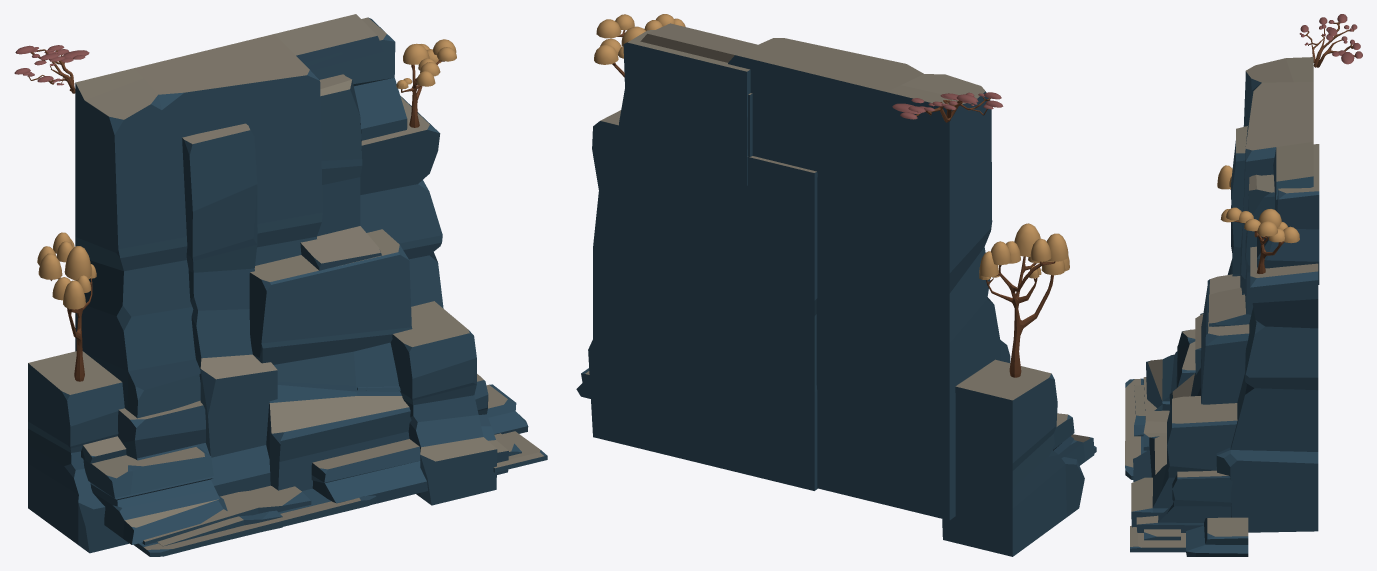
The model's file is cliff.glb.
The picture shows the model from 3 angles, left to right: view 1: azimuth 30°, elevation 25°; view 2: azimuth 150°, elevation 25°; view 3: azimuth 270°, elevation 25°; orthographic projection. The views are drawn at different scales.
Visible parts, largest first — view 1: Cube.030, tree.001, tree, tree_flat; view 2: Cube.030, tree.001, tree, tree_flat; view 3: Cube.030, tree, tree_flat, tree.001.
Part boxes in pixels (x1,y1,x2,y2): Cube.030: (28,14,547,556); tree.001: (37,232,96,381); tree: (396,39,456,127); tree_flat: (14,45,89,93); Cube.030: (576,23,1096,556); tree.001: (979,223,1069,377); tree: (594,14,685,77); tree_flat: (892,92,1003,122); Cube.030: (1125,57,1319,556); tree: (1220,207,1299,273); tree_flat: (1299,14,1362,67); tree.001: (1217,165,1232,189).
Size of the model in its own units: 10.48 by 9.66 by 5.44.
